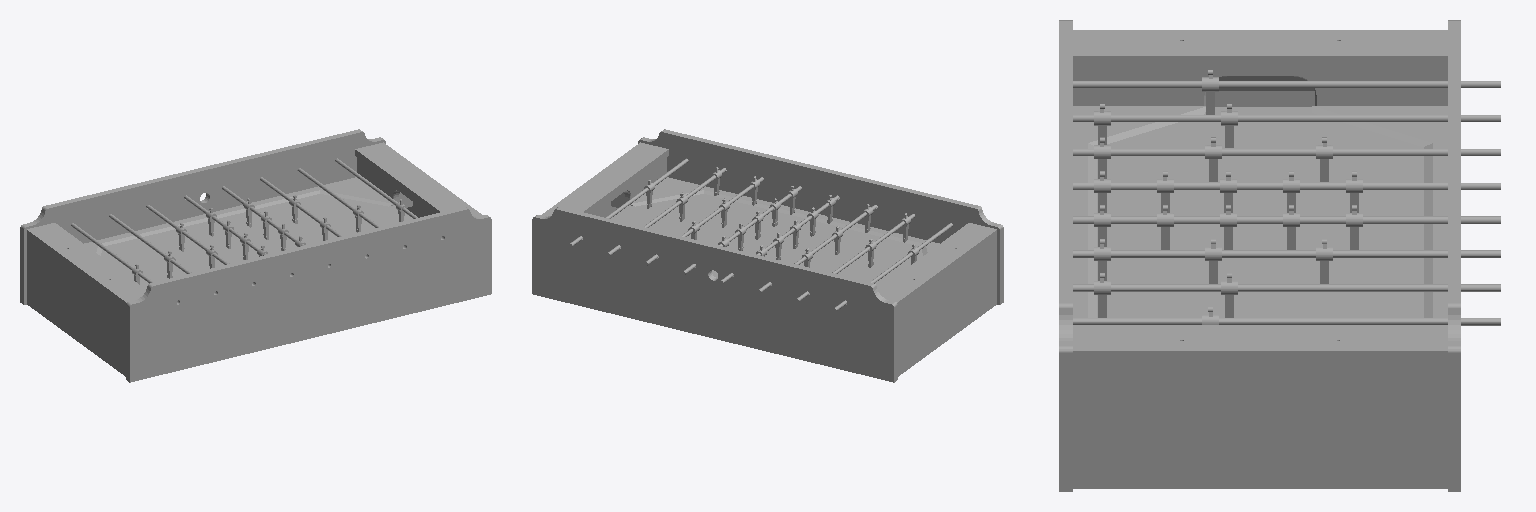
--- Facts derived from the render (not from the file) ---
3 views of the same robot in one strip: view 1: azimuth 30°, elevation 25°; view 2: azimuth 150°, elevation 25°; view 3: azimuth 270°, elevation 25° (orthographic).
Model miza_garlando with 39 links and 38 joints (8 revolute, 8 prismatic, 22 fixed), rooted at base_link_1, posed all joints at 0.
Links seen in each view (by area): view 1: base_link_1; view 2: base_link_1; view 3: base_link_1, Palica_7, Palica_6, Palica_8, Palica_1, Palica_2, Palica_5, Palica_3, Palica_4.
Boxes of the visible links, x1,y1,x2,y2 form: base_link_1: (20, 129, 491, 382); base_link_1: (532, 129, 1003, 382); base_link_1: (1059, 20, 1460, 491); Palica_7: (1073, 284, 1500, 291); Palica_6: (1073, 250, 1500, 257); Palica_8: (1073, 318, 1500, 325); Palica_1: (1073, 81, 1500, 87); Palica_2: (1073, 115, 1500, 121); Palica_5: (1073, 216, 1500, 223); Palica_3: (1073, 149, 1500, 155); Palica_4: (1073, 183, 1500, 189).
Size in the robot's own frame: 1.44 by 0.825 by 0.345 metres.
Meshes: 3 distinct files referenced, 31 mesh visuals loaded (3 binary STL).

The robot description file, URDF, robot "miza_garlando":
<?xml version="1.0" ?>
<robot name="miza_garlando">

<material name="silver">
  <color rgba="0.700 0.700 0.700 1.000"/>
</material>

<link name="base_link_1">
  <inertial>
    <origin xyz="0.7185000000000001 0.375833654606997 0.17405665806448248" rpy="0 0 0"/>
    <mass value="538.9061840068997"/>
    <inertia ixx="43.35359" iyy="136.345875" izz="173.853197" ixy="-0.0" iyz="0.005911" ixz="0.0"/>
  </inertial>
  <visual>
    <origin xyz="0 0 0" rpy="0 0 0"/>
    <geometry>
      <mesh filename="../meshes/base_link_1_frame_0.stl" scale="0.001 0.001 0.001"/>      
    </geometry>
    <material name="silver"/>
  </visual>
  <!--
  <collision>
    <origin xyz="0 0 0" rpy="0 0 0"/>
    <geometry>
      <mesh filename="../meshes/base_link_1.stl" scale="0.001 0.001 0.001"/>      
    </geometry>
  </collision>-->
</link>

<link name="igralec_1_1">
  <inertial>
    <origin xyz="0 0 0" rpy="0 0 0"/>
    <mass value="0.20930786514902727"/>
    <inertia ixx="0.000149" iyy="0.000146" izz="1.8e-05" ixy="-0.0" iyz="0.0" ixz="0.0"/>
  </inertial>
  <visual>
    <origin xyz="0 0 0" rpy="0 0 0"/>
    <geometry>
      <mesh filename="../meshes/igralec.stl" scale="0.001 0.001 0.001"/>
    </geometry>
    <material name="silver"/>
  </visual>
  <collision>
    <origin xyz="0 0 0" rpy="0 0 0"/>
    <geometry>
      <mesh filename="../meshes/igralec.stl" scale="0.001 0.001 0.001"/>
    </geometry>
  </collision>
</link>

<link name="lezaj_1"> <!-- Palica 1?  -0.1935 -->
  <inertial>
    <origin xyz="0 0 0" rpy="0 0 0"/>
    <mass value="0.025632041875721205"/>
    <inertia ixx="4e-06" iyy="7e-06" izz="4e-06" ixy="0.0" iyz="0.0" ixz="-0.0"/>
  </inertial>
</link>

<link name="Palica_1">
  <inertial>
    <origin xyz="0 0.4 0" rpy="0 0 0"/>
    <mass value="0.9667308913626517"/>
    <inertia ixx="0.051571" iyy="2.4e-05" izz="0.051571" ixy="0.0" iyz="0.0" ixz="0.0"/>
  </inertial>
  <visual>
    <origin xyz="0 0 0" rpy="0 0 0"/>
    <geometry>
      <mesh filename="../meshes/palica.stl" scale="0.001 0.001 0.001"/>
    </geometry>
    <material name="silver"/>
  </visual>
  <collision>
    <origin xyz="0 0 0" rpy="0 0 0"/>
    <geometry>
      <mesh filename="../meshes/palica.stl" scale="0.001 0.001 0.001"/>
    </geometry>
  </collision>
</link>

<link name="lezaj_2"> <!-- Palica 2?  -0.3435  -->
  <inertial>
    <origin xyz="0 0 0" rpy="0 0 0"/>
    <mass value="0.025632041875721205"/>
    <inertia ixx="4e-06" iyy="7e-06" izz="4e-06" ixy="0.0" iyz="0.0" ixz="0.0"/>
  </inertial>
</link>

<link name="Igralec_2_1">
  <inertial>
    <origin xyz="0 0 0" rpy="0 0 0"/>
    <mass value="0.20930786514902727"/>
    <inertia ixx="0.000149" iyy="0.000146" izz="1.8e-05" ixy="-0.0" iyz="0.0" ixz="0.0"/>
  </inertial>
  <visual>
    <origin xyz="0 0 0" rpy="0 0 0"/>
    <geometry>
      <mesh filename="../meshes/igralec.stl" scale="0.001 0.001 0.001"/>
    </geometry>
    <material name="silver"/>
  </visual>
  <collision>
    <origin xyz="0 0 0" rpy="0 0 0"/>
    <geometry>
      <mesh filename="../meshes/igralec.stl" scale="0.001 0.001 0.001"/>
    </geometry>
  </collision>
</link>

<link name="Igralec_2_2">
  <inertial>
    <origin xyz="0 0 0" rpy="0 0 0"/>
    <mass value="0.20930786514902727"/>
    <inertia ixx="0.000149" iyy="0.000146" izz="1.8e-05" ixy="-0.0" iyz="0.0" ixz="0.0"/>
  </inertial>
  <visual>
    <origin xyz="0 0 0" rpy="0 0 0"/>
    <geometry>
      <mesh filename="../meshes/igralec.stl" scale="0.001 0.001 0.001"/>
    </geometry>
    <material name="silver"/>
  </visual>
  <collision>
    <origin xyz="0 0 0" rpy="0 0 0"/>
    <geometry>
      <mesh filename="../meshes/igralec.stl" scale="0.001 0.001 0.001"/>
    </geometry>
  </collision>
</link>

<link name="Palica_3">
  <inertial>
    <origin xyz="0 0.4 0" rpy="0 0 0"/>
    <mass value="0.9667308913626517"/>
    <inertia ixx="0.051571" iyy="2.4e-05" izz="0.051571" ixy="0.0" iyz="0.0" ixz="0.0"/>
  </inertial>
  <visual>
    <origin xyz="0 0 0" rpy="0 0 0"/>
    <geometry>
      <mesh filename="../meshes/palica.stl" scale="0.001 0.001 0.001"/>
    </geometry>
    <material name="silver"/>
  </visual>
  <collision>
    <origin xyz="0 0 0" rpy="0 0 0"/>
    <geometry>
      <mesh filename="../meshes/palica.stl" scale="0.001 0.001 0.001"/>
    </geometry>
  </collision>
</link>

<link name="Igralec_3_1">
  <inertial>
    <origin xyz="0 0 0" rpy="0 0 0"/>
    <mass value="0.20930786514902727"/>
    <inertia ixx="0.000149" iyy="0.000146" izz="1.8e-05" ixy="-0.0" iyz="0.0" ixz="0.0"/>
  </inertial>
  <visual>
    <origin xyz="0 0 0" rpy="0 0 0"/>
    <geometry>
      <mesh filename="../meshes/igralec.stl" scale="0.001 0.001 0.001"/>
    </geometry>
    <material name="silver"/>
  </visual>
  <collision>
    <origin xyz="0 0 0" rpy="0 0 0"/>
    <geometry>
      <mesh filename="../meshes/igralec.stl" scale="0.001 0.001 0.001"/>
    </geometry>
  </collision>
</link>

<link name="Igralec_3_2">
  <inertial>
    <origin xyz="0 0 0" rpy="0 0 0"/>
    <mass value="0.20930786514902727"/>
    <inertia ixx="0.000149" iyy="0.000146" izz="1.8e-05" ixy="-0.0" iyz="0.0" ixz="0.0"/>
  </inertial>
  <visual>
    <origin xyz="0 0 0" rpy="0 0 0"/>
    <geometry>
      <mesh filename="../meshes/igralec.stl" scale="0.001 0.001 0.001"/>
    </geometry>
    <material name="silver"/>
  </visual>
  <collision>
    <origin xyz="0 0 0" rpy="0 0 0"/>
    <geometry>
      <mesh filename="../meshes/igralec.stl" scale="0.001 0.001 0.001"/>
    </geometry>
  </collision>
</link>

<link name="Igralec_3_3">
  <inertial>
    <origin xyz="0 0 0" rpy="0 0 0"/>
    <mass value="0.20930786514902727"/>
    <inertia ixx="0.000149" iyy="0.000146" izz="1.8e-05" ixy="-0.0" iyz="0.0" ixz="0.0"/>
  </inertial>
  <visual>
    <origin xyz="0 0 0" rpy="0 0 0"/>
    <geometry>
      <mesh filename="../meshes/igralec.stl" scale="0.001 0.001 0.001"/>
    </geometry>
    <material name="silver"/>
  </visual>
  <collision>
    <origin xyz="0 0 0" rpy="0 0 0"/>
    <geometry>
      <mesh filename="../meshes/igralec.stl" scale="0.001 0.001 0.001"/>
    </geometry>
  </collision>
</link>

<link name="Igralec_4_1">
  <inertial>
    <origin xyz="0 0 0" rpy="0 0 0"/>
    <mass value="0.20930786514902727"/>
    <inertia ixx="0.000149" iyy="0.000146" izz="1.8e-05" ixy="-0.0" iyz="0.0" ixz="0.0"/>
  </inertial>
  <visual>
    <origin xyz="0 0 0" rpy="0 0 0"/>
    <geometry>
      <mesh filename="../meshes/igralec.stl" scale="0.001 0.001 0.001"/>
    </geometry>
    <material name="silver"/>
  </visual>
  <collision>
    <origin xyz="0 0 0" rpy="0 0 0"/>
    <geometry>
      <mesh filename="../meshes/igralec.stl" scale="0.001 0.001 0.001"/>
    </geometry>
  </collision>
</link>

<link name="Igralec_4_2">
  <inertial>
    <origin xyz="0 0 0" rpy="0 0 0"/>
    <mass value="0.20930786514902727"/>
    <inertia ixx="0.000149" iyy="0.000146" izz="1.8e-05" ixy="-0.0" iyz="0.0" ixz="0.0"/>
  </inertial>
  <visual>
    <origin xyz="0 0 0" rpy="0 0 0"/>
    <geometry>
      <mesh filename="../meshes/igralec.stl" scale="0.001 0.001 0.001"/>
    </geometry>
    <material name="silver"/>
  </visual>
  <collision>
    <origin xyz="0 0 0" rpy="0 0 0"/>
    <geometry>
      <mesh filename="../meshes/igralec.stl" scale="0.001 0.001 0.001"/>
    </geometry>
  </collision>
</link>

<link name="Igralec_4_3">
  <inertial>
    <origin xyz="0 0 0" rpy="0 0 0"/>
    <mass value="0.20930786514902727"/>
    <inertia ixx="0.000149" iyy="0.000146" izz="1.8e-05" ixy="-0.0" iyz="0.0" ixz="0.0"/>
  </inertial>
  <visual>
    <origin xyz="0 0 0" rpy="0 0 0"/>
    <geometry>
      <mesh filename="../meshes/igralec.stl" scale="0.001 0.001 0.001"/>
    </geometry>
    <material name="silver"/>
  </visual>
  <collision>
    <origin xyz="0 0 0" rpy="0 0 0"/>
    <geometry>
      <mesh filename="../meshes/igralec.stl" scale="0.001 0.001 0.001"/>
    </geometry>
  </collision>
</link>

<link name="Igralec_4_4">
  <inertial>
    <origin xyz="0 0 0" rpy="0 0 0"/>
    <mass value="0.20930786514902727"/>
    <inertia ixx="0.000149" iyy="0.000146" izz="1.8e-05" ixy="-0.0" iyz="0.0" ixz="0.0"/>
  </inertial>
  <visual>
    <origin xyz="0 0 0" rpy="0 0 0"/>
    <geometry>
      <mesh filename="../meshes/igralec.stl" scale="0.001 0.001 0.001"/>
    </geometry>
    <material name="silver"/>
  </visual>
  <collision>
    <origin xyz="0 0 0" rpy="0 0 0"/>
    <geometry>
      <mesh filename="../meshes/igralec.stl" scale="0.001 0.001 0.001"/>
    </geometry>
  </collision>
</link>

<link name="Igralec_4_5">
  <inertial>
    <origin xyz="0 0 0" rpy="0 0 0"/>
    <mass value="0.20930786514902727"/>
    <inertia ixx="0.000149" iyy="0.000146" izz="1.8e-05" ixy="-0.0" iyz="0.0" ixz="0.0"/>
  </inertial>
  <visual>
    <origin xyz="0 0 0" rpy="0 0 0"/>
    <geometry>
      <mesh filename="../meshes/igralec.stl" scale="0.001 0.001 0.001"/>
    </geometry>
    <material name="silver"/>
  </visual>
  <collision>
    <origin xyz="0 0 0" rpy="0 0 0"/>
    <geometry>
      <mesh filename="../meshes/igralec.stl" scale="0.001 0.001 0.001"/>
    </geometry>
  </collision>
</link>

<link name="lezaj_5"> <!-- Palica 5?  -0.7935 -->
  <inertial>
    <origin xyz="0 0 0" rpy="0 0 0"/>
    <mass value="0.025632041875721205"/>
    <inertia ixx="4e-06" iyy="7e-06" izz="4e-06" ixy="0.0" iyz="0.0" ixz="0.0"/>
  </inertial>
</link>

<link name="Palica_5">
  <inertial>
    <origin xyz="0 0.4 0" rpy="0 0 0"/>
    <mass value="0.9667308913626517"/>
    <inertia ixx="0.051571" iyy="2.4e-05" izz="0.051571" ixy="0.0" iyz="0.0" ixz="0.0"/>
  </inertial>
  <visual>
    <origin xyz="0 0 0" rpy="0 0 0"/>
    <geometry>
      <mesh filename="../meshes/palica.stl" scale="0.001 0.001 0.001"/>
    </geometry>
    <material name="silver"/>
  </visual>
  <collision>
    <origin xyz="0 0 0" rpy="0 0 0"/>
    <geometry>
      <mesh filename="../meshes/palica.stl" scale="0.001 0.001 0.001"/>
    </geometry>
  </collision>
</link>

<link name="Igralec_5_1">
  <inertial>
    <origin xyz="0 0 0" rpy="0 0 0"/>
    <mass value="0.20930786514902727"/>
    <inertia ixx="0.000149" iyy="0.000146" izz="1.8e-05" ixy="-0.0" iyz="0.0" ixz="0.0"/>
  </inertial>
  <visual>
    <origin xyz="0 0 0" rpy="0 0 0"/>
    <geometry>
      <mesh filename="../meshes/igralec.stl" scale="0.001 0.001 0.001"/>
    </geometry>
    <material name="silver"/>
  </visual>
  <collision>
    <origin xyz="0 0 0" rpy="0 0 0"/>
    <geometry>
      <mesh filename="../meshes/igralec.stl" scale="0.001 0.001 0.001"/>
    </geometry>
  </collision>
</link>

<link name="Igralec_5_2">
  <inertial>
    <origin xyz="0 0 0" rpy="0 0 0"/>
    <mass value="0.20930786514902727"/>
    <inertia ixx="0.000149" iyy="0.000146" izz="1.8e-05" ixy="-0.0" iyz="0.0" ixz="0.0"/>
  </inertial>
  <visual>
    <origin xyz="0 0 0" rpy="0 0 0"/>
    <geometry>
      <mesh filename="../meshes/igralec.stl" scale="0.001 0.001 0.001"/>
    </geometry>
    <material name="silver"/>
  </visual>
  <collision>
    <origin xyz="0 0 0" rpy="0 0 0"/>
    <geometry>
      <mesh filename="../meshes/igralec.stl" scale="0.001 0.001 0.001"/>
    </geometry>
  </collision>
</link>

<link name="Igralec_5_3">
  <inertial>
    <origin xyz="0 0 0" rpy="0 0 0"/>
    <mass value="0.20930786514902727"/>
    <inertia ixx="0.000149" iyy="0.000146" izz="1.8e-05" ixy="-0.0" iyz="0.0" ixz="0.0"/>
  </inertial>
  <visual>
    <origin xyz="0 0 0" rpy="0 0 0"/>
    <geometry>
      <mesh filename="../meshes/igralec.stl" scale="0.001 0.001 0.001"/>
    </geometry>
    <material name="silver"/>
  </visual>
  <collision>
    <origin xyz="0 0 0" rpy="0 0 0"/>
    <geometry>
      <mesh filename="../meshes/igralec.stl" scale="0.001 0.001 0.001"/>
    </geometry>
  </collision>
</link>

<link name="Igralec_5_4">
  <inertial>
    <origin xyz="0 0 0" rpy="0 0 0"/>
    <mass value="0.20930786514902727"/>
    <inertia ixx="0.000149" iyy="0.000146" izz="1.8e-05" ixy="-0.0" iyz="0.0" ixz="0.0"/>
  </inertial>
  <visual>
    <origin xyz="0 0 0" rpy="0 0 0"/>
    <geometry>
      <mesh filename="../meshes/igralec.stl" scale="0.001 0.001 0.001"/>
    </geometry>
    <material name="silver"/>
  </visual>
  <collision>
    <origin xyz="0 0 0" rpy="0 0 0"/>
    <geometry>
      <mesh filename="../meshes/igralec.stl" scale="0.001 0.001 0.001"/>
    </geometry>
  </collision>
</link>

<link name="Igralec_5_5">
  <inertial>
    <origin xyz="0 0 0" rpy="0 0 0"/>
    <mass value="0.20930786514902727"/>
    <inertia ixx="0.000149" iyy="0.000146" izz="1.8e-05" ixy="-0.0" iyz="0.0" ixz="0.0"/>
  </inertial>
  <visual>
    <origin xyz="0 0 0" rpy="0 0 0"/>
    <geometry>
      <mesh filename="../meshes/igralec.stl" scale="0.001 0.001 0.001"/>
    </geometry>
    <material name="silver"/>
  </visual>
  <collision>
    <origin xyz="0 0 0" rpy="0 0 0"/>
    <geometry>
      <mesh filename="../meshes/igralec.stl" scale="0.001 0.001 0.001"/>
    </geometry>
  </collision>
</link>

<link name="lezaj_6"> <!-- Palica 6?  -0.9435 -->
  <inertial>
    <origin xyz="0 0 0" rpy="0 0 0"/>
    <mass value="0.025632041875721205"/>
    <inertia ixx="4e-06" iyy="7e-06" izz="4e-06" ixy="-0.0" iyz="0.0" ixz="-0.0"/>
  </inertial>
</link>

<link name="Igralec_6_1">
  <inertial>
    <origin xyz="0 0 0" rpy="0 0 0"/>
    <mass value="0.20930786514902727"/>
    <inertia ixx="0.000149" iyy="0.000146" izz="1.8e-05" ixy="-0.0" iyz="0.0" ixz="0.0"/>
  </inertial>
  <visual>
    <origin xyz="0 0 0" rpy="0 0 0"/>
    <geometry>
      <mesh filename="../meshes/igralec.stl" scale="0.001 0.001 0.001"/>
    </geometry>
    <material name="silver"/>
  </visual>
  <collision>
    <origin xyz="0 0 0" rpy="0 0 0"/>
    <geometry>
      <mesh filename="../meshes/igralec.stl" scale="0.001 0.001 0.001"/>
    </geometry>
  </collision>
</link>

<link name="Igralec_6_2">
  <inertial>
    <origin xyz="0 0 0" rpy="0 0 0"/>
    <mass value="0.20930786514902727"/>
    <inertia ixx="0.000149" iyy="0.000146" izz="1.8e-05" ixy="-0.0" iyz="0.0" ixz="0.0"/>
  </inertial>
  <visual>
    <origin xyz="0 0 0" rpy="0 0 0"/>
    <geometry>
      <mesh filename="../meshes/igralec.stl" scale="0.001 0.001 0.001"/>
    </geometry>
    <material name="silver"/>
  </visual>
  <collision>
    <origin xyz="0 0 0" rpy="0 0 0"/>
    <geometry>
      <mesh filename="../meshes/igralec.stl" scale="0.001 0.001 0.001"/>
    </geometry>
  </collision>
</link>

<link name="Igralec_6_3">
  <inertial>
    <origin xyz="0 0 0" rpy="0 0 0"/>
    <mass value="0.20930786514902727"/>
    <inertia ixx="0.000149" iyy="0.000146" izz="1.8e-05" ixy="-0.0" iyz="0.0" ixz="0.0"/>
  </inertial>
  <visual>
    <origin xyz="0 0 0" rpy="0 0 0"/>
    <geometry>
      <mesh filename="../meshes/igralec.stl" scale="0.001 0.001 0.001"/>
    </geometry>
    <material name="silver"/>
  </visual>
  <collision>
    <origin xyz="0 0 0" rpy="0 0 0"/>
    <geometry>
      <mesh filename="../meshes/igralec.stl" scale="0.001 0.001 0.001"/>
    </geometry>
  </collision>
</link>

<link name="lezaj_7"> <!-- Palica 7?  -1.0935 -->
  <inertial>
    <origin xyz="0 0 0" rpy="0 0 0"/>
    <mass value="0.02563204187572133"/>
    <inertia ixx="4e-06" iyy="7e-06" izz="4e-06" ixy="0.0" iyz="-0.0" ixz="0.0"/>
  </inertial>
</link>

<link name="lezaj_8"> <!-- Palica 7?  -1.2435 -->
  <inertial>
    <origin xyz="0 0 0" rpy="0 0 0"/>
    <mass value="0.025632041875721205"/>
    <inertia ixx="4e-06" iyy="7e-06" izz="4e-06" ixy="0.0" iyz="0.0" ixz="0.0"/>
  </inertial>
</link>

<link name="Palica_7">
  <inertial>
    <origin xyz="0 0.4 0" rpy="0 0 0"/>
    <mass value="0.9667308913626517"/>
    <inertia ixx="0.051571" iyy="2.4e-05" izz="0.051571" ixy="0.0" iyz="0.0" ixz="0.0"/>
  </inertial>
  <visual>
    <origin xyz="0 0 0" rpy="0 0 0"/>
    <geometry>
      <mesh filename="../meshes/palica.stl" scale="0.001 0.001 0.001"/>
    </geometry>
    <material name="silver"/>
  </visual>
  <collision>
    <origin xyz="0 0 0" rpy="0 0 0"/>
    <geometry>
      <mesh filename="../meshes/palica.stl" scale="0.001 0.001 0.001"/>
    </geometry>
  </collision>
</link>

<link name="Palica_8">
  <inertial>
    <origin xyz="0 0.4 0" rpy="0 0 0"/>
    <mass value="0.9667308913626517"/>
    <inertia ixx="0.051571" iyy="2.4e-05" izz="0.051571" ixy="0.0" iyz="0.0" ixz="0.0"/>
  </inertial>
  <visual>
    <origin xyz="0 0 0" rpy="0 0 0"/>
    <geometry>
      <mesh filename="../meshes/palica.stl" scale="0.001 0.001 0.001"/>
    </geometry>
    <material name="silver"/>
  </visual>
  <collision>
    <origin xyz="0 0 0" rpy="0 0 0"/>
    <geometry>
      <mesh filename="../meshes/palica.stl" scale="0.001 0.001 0.001"/>
    </geometry>
  </collision>
</link>

<link name="Igralec_7_1">
  <inertial>
    <origin xyz="0 0 0" rpy="0 0 0"/>
    <mass value="0.20930786514902727"/>
    <inertia ixx="0.000149" iyy="0.000146" izz="1.8e-05" ixy="-0.0" iyz="0.0" ixz="0.0"/>
  </inertial>
  <visual>
    <origin xyz="0 0 0" rpy="0 0 0"/>
    <geometry>
      <mesh filename="../meshes/igralec.stl" scale="0.001 0.001 0.001"/>
    </geometry>
    <material name="silver"/>
  </visual>
  <collision>
    <origin xyz="0 0 0" rpy="0 0 0"/>
    <geometry>
      <mesh filename="../meshes/igralec.stl" scale="0.001 0.001 0.001"/>
    </geometry>
  </collision>
</link>

<link name="Igralec_7_2">
  <inertial>
    <origin xyz="0 0 0" rpy="0 0 0"/>
    <mass value="0.20930786514902727"/>
    <inertia ixx="0.000149" iyy="0.000146" izz="1.8e-05" ixy="-0.0" iyz="0.0" ixz="0.0"/>
  </inertial>
  <visual>
    <origin xyz="0 0 0" rpy="0 0 0"/>
    <geometry>
      <mesh filename="../meshes/igralec.stl" scale="0.001 0.001 0.001"/>
    </geometry>
    <material name="silver"/>
  </visual>
  <collision>
    <origin xyz="0 0 0" rpy="0 0 0"/>
    <geometry>
      <mesh filename="../meshes/igralec.stl" scale="0.001 0.001 0.001"/>
    </geometry>
  </collision>
</link>

<link name="Igralec_8_1">
  <inertial>
    <origin xyz="0 0 0" rpy="0 0 0"/>
    <mass value="0.20930786514902727"/>
    <inertia ixx="0.000149" iyy="0.000146" izz="1.8e-05" ixy="-0.0" iyz="0.0" ixz="0.0"/>
  </inertial>
  <visual>
    <origin xyz="0 0 0" rpy="0 0 0"/>
    <geometry>
      <mesh filename="../meshes/igralec.stl" scale="0.001 0.001 0.001"/>
    </geometry>
    <material name="silver"/>
  </visual>
  <collision>
    <origin xyz="0 0 0" rpy="0 0 0"/>
    <geometry>
      <mesh filename="../meshes/igralec.stl" scale="0.001 0.001 0.001"/>
    </geometry>
  </collision>
</link>

<link name="Palica_2">
  <inertial>
    <origin xyz="0 0.4 0" rpy="0 0 0"/>
    <mass value="0.9667308913626517"/>
    <inertia ixx="0.051571" iyy="2.4e-05" izz="0.051571" ixy="0.0" iyz="0.0" ixz="0.0"/>
  </inertial>
  <visual>
    <origin xyz="0 0 0" rpy="0 0 0"/>
    <geometry>
      <mesh filename="../meshes/palica.stl" scale="0.001 0.001 0.001"/>
    </geometry>
    <material name="silver"/>
  </visual>
  <collision>
    <origin xyz="0 0 0" rpy="0 0 0"/>
    <geometry>
      <mesh filename="../meshes/palica.stl" scale="0.001 0.001 0.001"/>
    </geometry>
  </collision>
</link>

<link name="lezaj_3"> <!-- Palica 3?  -0.4935 -->
  <inertial>
    <origin xyz="0 0 0" rpy="0 0 0"/>
    <mass value="0.025632041875721205"/>
    <inertia ixx="4e-06" iyy="7e-06" izz="4e-06" ixy="-0.0" iyz="0.0" ixz="-0.0"/>
  </inertial>
</link>

<link name="Palica_4">
  <inertial>
    <origin xyz="0 0.4 0" rpy="0 0 0"/>
    <mass value="0.9667308913626517"/>
    <inertia ixx="0.051571" iyy="2.4e-05" izz="0.051571" ixy="0.0" iyz="0.0" ixz="0.0"/>
  </inertial>
  <visual>
    <origin xyz="0 0 0" rpy="0 0 0"/>
    <geometry>
      <mesh filename="../meshes/palica.stl" scale="0.001 0.001 0.001"/>
    </geometry>
    <material name="silver"/>
  </visual>
  <collision>
    <origin xyz="0 0 0" rpy="0 0 0"/>
    <geometry>
      <mesh filename="../meshes/palica.stl" scale="0.001 0.001 0.001"/>
    </geometry>
  </collision>
</link>

<link name="lezaj_4"> <!-- Palica 4?  -0.6435 -->
  <inertial>
    <origin xyz="0 0 0" rpy="0 0 0"/>
    <mass value="0.025632041875721205"/>
    <inertia ixx="4e-06" iyy="7e-06" izz="4e-06" ixy="0.0" iyz="0.0" ixz="-0.0"/>
  </inertial>
</link>

<link name="Palica_6">
  <inertial>
    <origin xyz="0 0.4 0" rpy="0 0 0"/>
    <mass value="0.9667308913626517"/>
    <inertia ixx="0.051571" iyy="2.4e-05" izz="0.051571" ixy="0.0" iyz="0.0" ixz="0.0"/>
  </inertial>
  <visual>
    <origin xyz="0 0 0" rpy="0 0 0"/>
    <geometry>
      <mesh filename="../meshes/palica.stl" scale="0.001 0.001 0.001"/>
    </geometry>
    <material name="silver"/>
  </visual>
  <collision>
    <origin xyz="0 0 0" rpy="0 0 0"/>
    <geometry>
      <mesh filename="../meshes/palica.stl" scale="0.001 0.001 0.001"/>
    </geometry>
  </collision>
</link>





<joint name="rod1_Revolute" type="revolute">
  <origin xyz="0.1935 0.025 0.2595" rpy="0 0 0"/>
  <parent link="base_link_1"/>
  <child link="lezaj_1"/>
  <axis xyz="0 1 0"/>
  <limit upper="3.14159" lower="-3.14159" effort="100" velocity="100"/>
</joint>
<joint name="rod2_Revolute" type="revolute">
  <origin xyz="0.3435 0.025 0.2595" rpy="0 0 0"/>
  <parent link="base_link_1"/>
  <child link="lezaj_2"/>
  <axis xyz="0 1 0"/>
  <limit upper="3.14159" lower="-3.14159" effort="100" velocity="100"/>
</joint>
<joint name="Rod3_Revolute" type="revolute">
  <origin xyz="0.4935 0.025 0.2595" rpy="0 0 0"/>
  <parent link="base_link_1"/>
  <child link="lezaj_3"/>
  <axis xyz="0 1 0"/>
  <limit upper="3.14159" lower="-3.14159" effort="100" velocity="100"/>
</joint>
<joint name="Rod4_Revolute" type="revolute">
  <origin xyz="0.6435 0.025 0.2595" rpy="0 0 0"/>
  <parent link="base_link_1"/>
  <child link="lezaj_4"/>
  <axis xyz="0 1 0"/>
  <limit upper="3.14159" lower="-3.14159" effort="100" velocity="100"/>
</joint>
<joint name="Rod5_Revolute" type="revolute">
  <origin xyz="0.7935 0.025 0.2595" rpy="0 0 0"/>
  <parent link="base_link_1"/>
  <child link="lezaj_5"/>
  <axis xyz="0 1 0"/>
  <limit upper="3.14159" lower="-3.14159" effort="100" velocity="100"/>
</joint>
<joint name="Rod6_Revolute" type="revolute">
  <origin xyz="0.9435 0.025 0.2595" rpy="0 0 0"/>
  <parent link="base_link_1"/>
  <child link="lezaj_6"/>
  <axis xyz="0 1 0"/>
  <limit upper="3.14159" lower="-3.14159" effort="100" velocity="100"/>
</joint>
<joint name="Rod7_Revolute" type="revolute">
  <origin xyz="1.0935 0.025 0.2595" rpy="0 0 0"/>
  <parent link="base_link_1"/>
  <child link="lezaj_7"/>
  <axis xyz="0 1 0"/>
  <limit upper="3.14159" lower="-3.14159" effort="100" velocity="100"/>
</joint>
<joint name="Rod8_Revolute" type="revolute">
  <origin xyz="1.2435 0.025 0.2595" rpy="0 0 0"/>
  <parent link="base_link_1"/>
  <child link="lezaj_8"/>
  <axis xyz="0 1 0"/>
  <limit upper="3.14159" lower="-3.14159" effort="100" velocity="100"/>
</joint>



<joint name="rod1_Slider" type="prismatic">
  <origin xyz="0 0 0" rpy="0 0 0"/>
  <parent link="lezaj_1"/>
  <child link="Palica_1"/>
  <axis xyz="0 1 0"/>
  <limit upper="0.19" lower="0" effort="100" velocity="100"/>
</joint>
<joint name="Rod2_Slider" type="prismatic">
  <origin xyz="0 0 0" rpy="0 0 0"/>
  <parent link="lezaj_2"/>
  <child link="Palica_2"/>
  <axis xyz="0 1 0"/>
  <limit upper="0.356" lower="0" effort="100" velocity="100"/>
</joint>
<joint name="rod3_Slider" type="prismatic">
  <origin xyz="0 0 0" rpy="0 0 0"/>
  <parent link="lezaj_3"/>
  <child link="Palica_3"/>
  <axis xyz="0 1 0"/>
  <limit upper="0.18" lower="0" effort="100" velocity="100"/>
</joint>
<joint name="Rod4_Slider" type="prismatic">
  <origin xyz="0 0 0" rpy="0 0 0"/>
  <parent link="lezaj_4"/>
  <child link="Palica_4"/>
  <axis xyz="0 1 0"/>
  <limit upper="0.116" lower="0" effort="100" velocity="100"/>
</joint>
<joint name="Rod5_Slider" type="prismatic">
  <origin xyz="0 0 0" rpy="0 0 0"/>
  <parent link="lezaj_5"/>
  <child link="Palica_5"/>
  <axis xyz="-3.982925100842749e-15 1.0 0"/>
  <limit upper="0.116" lower="0" effort="100" velocity="100"/>
</joint>
<joint name="Rod6_Slider" type="prismatic">
  <origin xyz="0 0 0.0" rpy="0 0 0"/>
  <parent link="lezaj_6"/>
  <child link="Palica_6"/>
  <axis xyz="0 1 0"/>
  <limit upper="0.18" lower="0" effort="100" velocity="100"/>
</joint>
<joint name="Rod7_Slider" type="prismatic">
  <origin xyz="0 0 0" rpy="0 0 0"/>
  <parent link="lezaj_7"/>
  <child link="Palica_7"/>
  <axis xyz="0 1 0"/>
  <limit upper="0.356" lower="0" effort="100" velocity="100"/>
</joint>
<joint name="Rod8_Slider" type="prismatic">
  <origin xyz="0 0 0" rpy="0 0 0"/>
  <parent link="lezaj_8"/>
  <child link="Palica_8"/>
  <axis xyz="0 1 0"/>
  <limit upper="0.19" lower="0" effort="100" velocity="100"/>
</joint>











<joint name="rod1_Rigid" type="fixed">
  <origin xyz="0 0.258 0" rpy="0 0 0"/>
  <parent link="Palica_1"/>
  <child link="igralec_1_1"/>
</joint>

<joint name="rod2_Rigid1" type="fixed">
  <origin xyz="0 0.055 0" rpy="0 0 0"/>
  <parent link="Palica_2"/>
  <child link="Igralec_2_1"/>
</joint>
<joint name="rod2_Rigid2" type="fixed">
  <origin xyz="0 0.293 0" rpy="0 0 0"/>
  <parent link="Palica_2"/>
  <child link="Igralec_2_2"/>
</joint>

<joint name="rod3_Rigid1" type="fixed">
  <origin xyz="0 0.055 0" rpy="0 0 0"/>
  <parent link="Palica_3"/>
  <child link="Igralec_3_1"/>
</joint>
<joint name="rod3_Rigid2" type="fixed">
  <origin xyz="0 0.263 0" rpy="0 0 0"/>
  <parent link="Palica_3"/>
  <child link="Igralec_3_2"/>
</joint>
<joint name="rod3_Rigid3" type="fixed">
  <origin xyz="0 0.471 0" rpy="0 0 0"/>
  <parent link="Palica_3"/>
  <child link="Igralec_3_3"/>
</joint>

<joint name="rod4_Rigid1" type="fixed">
  <origin xyz="0 0.055 0" rpy="0 0 0"/>
  <parent link="Palica_4"/>
  <child link="Igralec_4_1"/>
</joint>
<joint name="rod4_Rigid2" type="fixed">
  <origin xyz="0 0.173 0" rpy="0 0 0"/>
  <parent link="Palica_4"/>
  <child link="Igralec_4_2"/>
</joint>
<joint name="rod4_Rigid3" type="fixed">
  <origin xyz="0 0.291 0" rpy="0 0 0"/>
  <parent link="Palica_4"/>
  <child link="Igralec_4_3"/>
</joint>
<joint name="rod4_Rigid4" type="fixed">
  <origin xyz="0 0.409 0" rpy="0 0 0"/>
  <parent link="Palica_4"/>
  <child link="Igralec_4_4"/>
</joint>
<joint name="rod4_Rigid5" type="fixed">
  <origin xyz="0 0.527 0" rpy="0 0 0"/>
  <parent link="Palica_4"/>
  <child link="Igralec_4_5"/>
</joint>



<joint name="rod5_Rigid1" type="fixed">
  <origin xyz="0 0.055 0" rpy="0 0 0"/>
  <parent link="Palica_5"/>
  <child link="Igralec_5_1"/>
</joint>
<joint name="rod5_Rigid2" type="fixed">
  <origin xyz="0 0.173 0" rpy="0 0 0"/>
  <parent link="Palica_5"/>
  <child link="Igralec_5_2"/>
</joint>
<joint name="rod5_Rigid3" type="fixed">
  <origin xyz="0 0.291 0" rpy="0 0 0"/>
  <parent link="Palica_5"/>
  <child link="Igralec_5_3"/>
</joint>
<joint name="rod5_Rigid4" type="fixed">
  <origin xyz="0 0.409 0" rpy="0 0 0"/>
  <parent link="Palica_5"/>
  <child link="Igralec_5_4"/>
</joint>
<joint name="rod5_Rigid5" type="fixed">
  <origin xyz="0 0.527 0" rpy="0 0 0"/>
  <parent link="Palica_5"/>
  <child link="Igralec_5_5"/>
</joint>



<joint name="rod6_Rigid1" type="fixed">
  <origin xyz="0 0.055 0" rpy="0 0 0"/>
  <parent link="Palica_6"/>
  <child link="Igralec_6_1"/>
</joint>
<joint name="rod6_Rigid2" type="fixed">
  <origin xyz="0 0.263 0" rpy="0 0 0"/>
  <parent link="Palica_6"/>
  <child link="Igralec_6_2"/>
</joint>
<joint name="rod6_Rigid3" type="fixed">
  <origin xyz="0 0.471 0" rpy="0 0 0"/>
  <parent link="Palica_6"/>
  <child link="Igralec_6_3"/>
</joint>


<joint name="rod7_Rigid1" type="fixed">
  <origin xyz="0 0.055 0" rpy="0 0 0"/>
  <parent link="Palica_7"/>
  <child link="Igralec_7_1"/>
</joint>
<joint name="rod7_Rigid2" type="fixed">
  <origin xyz="0 0.293 0" rpy="0 0 0"/>
  <parent link="Palica_7"/>
  <child link="Igralec_7_2"/>
</joint>

<joint name="rod8_Rigid1" type="fixed">
  <origin xyz="0 0.258 0" rpy="0 0 0"/>
  <parent link="Palica_8"/>
  <child link="Igralec_8_1"/>
</joint>



</robot>
